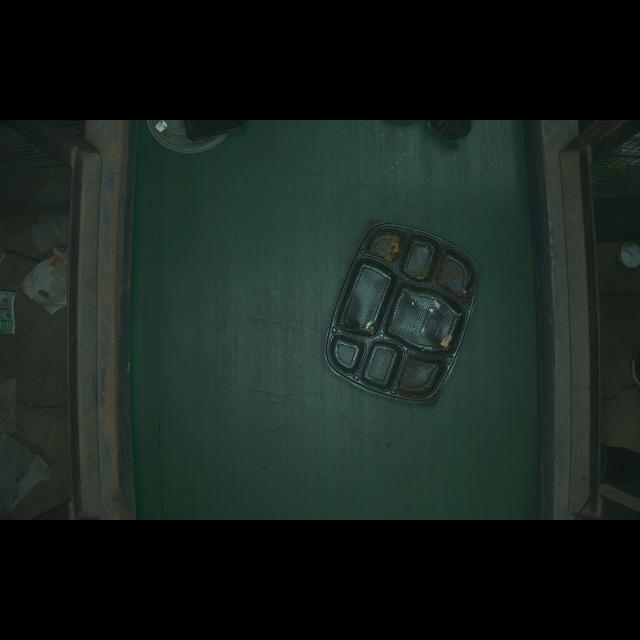mix rigid: (305, 202, 492, 432)
